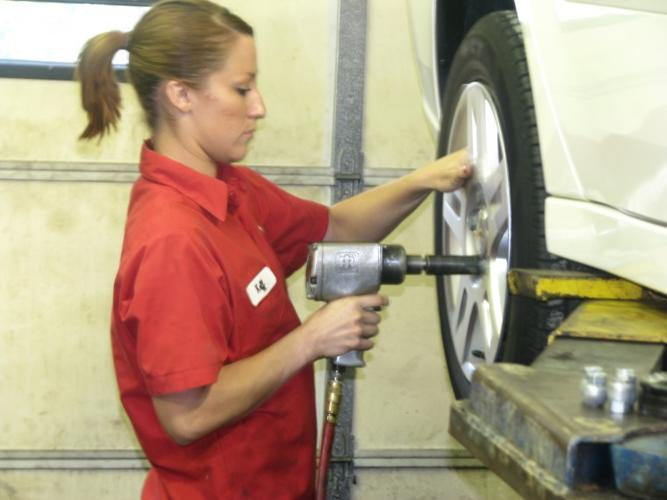person: (76, 4, 479, 500)
